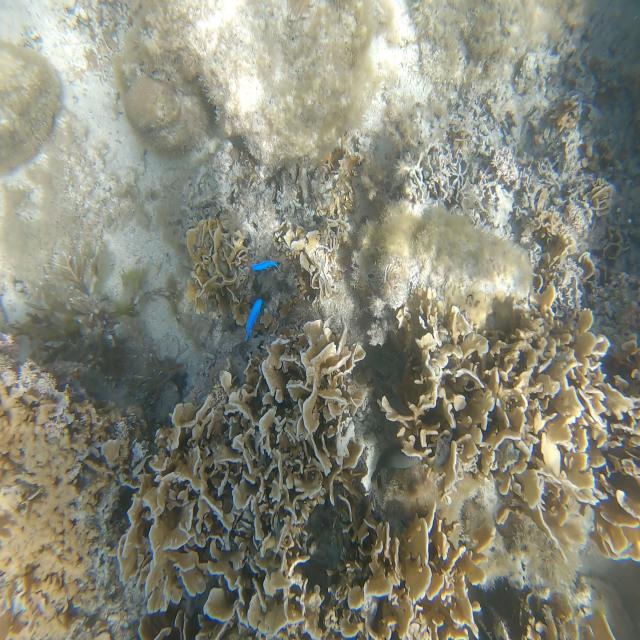rurisuzumedai: (245, 299, 263, 340), (252, 260, 278, 271)
